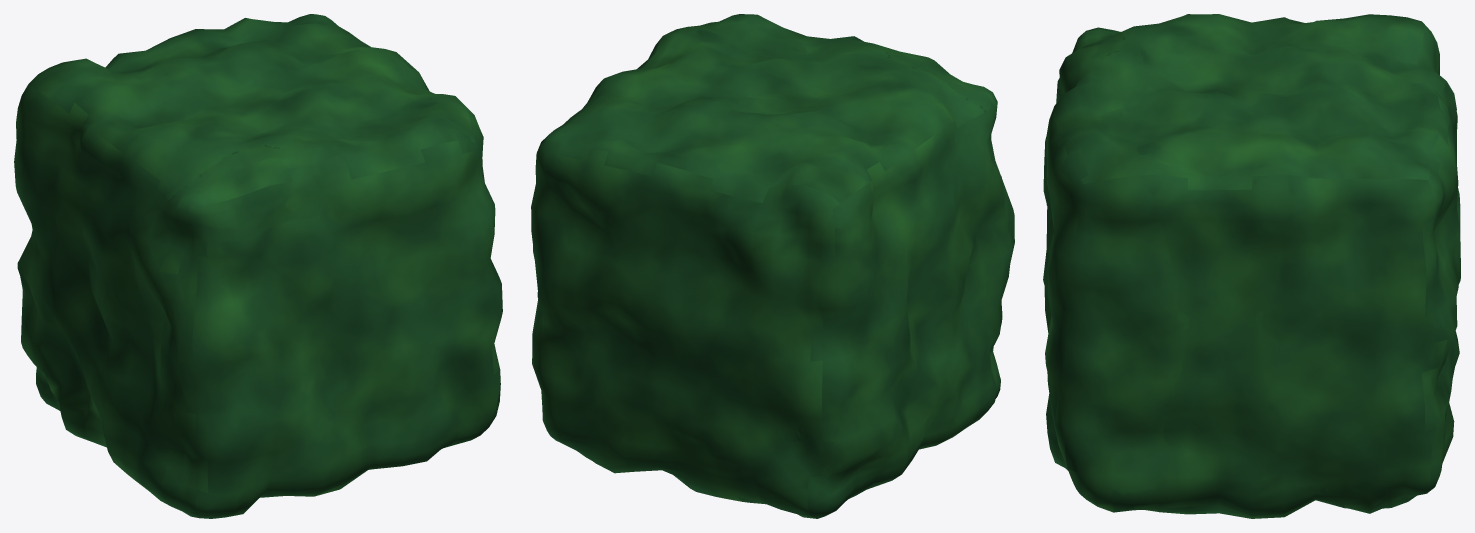
Rendered from Bush.fbx.
The picture shows the model from 3 angles, left to right: view 1: azimuth 30°, elevation 25°; view 2: azimuth 150°, elevation 25°; view 3: azimuth 270°, elevation 25°; orthographic projection. The views are drawn at different scales.
Parts seen in each view (by area): view 1: Cube.003; view 2: Cube.003; view 3: Cube.003.
Part boxes in pixels (x1,y1,x2,y2): Cube.003: (14, 14, 502, 518); Cube.003: (531, 14, 1014, 518); Cube.003: (1043, 14, 1460, 518).
Size of the model in its own units: 437 by 436 by 437.
